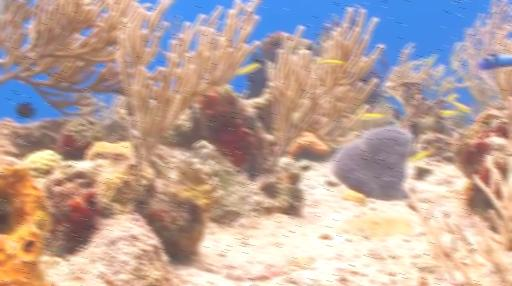Fish: (477, 53, 511, 70), (445, 93, 471, 113), (236, 62, 260, 75), (410, 147, 434, 160), (17, 102, 36, 118), (451, 100, 471, 113), (359, 113, 392, 119), (440, 109, 462, 116), (315, 59, 345, 64), (427, 54, 438, 66), (447, 93, 458, 101)
